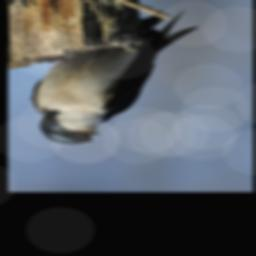Swallow: (32, 9, 199, 144)
